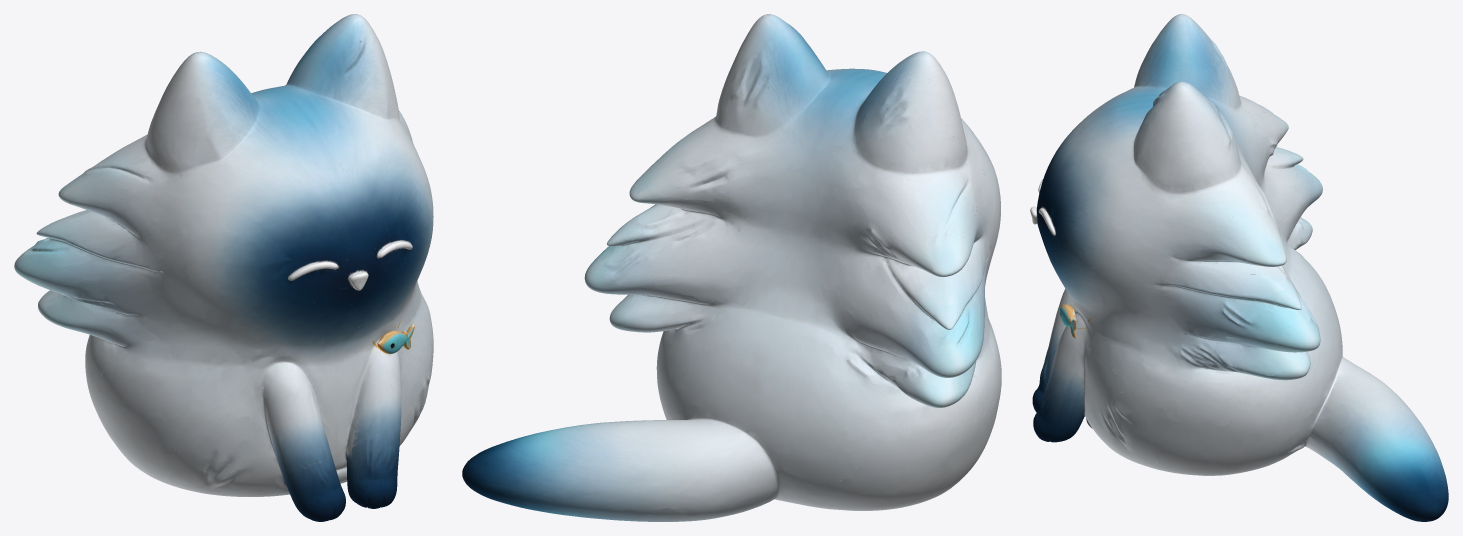
Rendered from fish-brooch-BnBaPfvG.glb.
The picture shows the model from 3 angles, left to right: view 1: azimuth 30°, elevation 25°; view 2: azimuth 150°, elevation 25°; view 3: azimuth 270°, elevation 25°; orthographic projection. The views are drawn at different scales.
Visible parts, largest first — view 1: worn-fish-brooch; view 2: worn-fish-brooch; view 3: worn-fish-brooch.
Part boxes in pixels (left/top/right/bottom): worn-fish-brooch: left=14, top=14, right=433, bottom=521; worn-fish-brooch: left=462, top=14, right=1001, bottom=521; worn-fish-brooch: left=1030, top=14, right=1448, bottom=521.
Bounding box in the file's own units: 1.9 × 1.75 × 1.75.
Materials: 1 (1 with a texture image).
